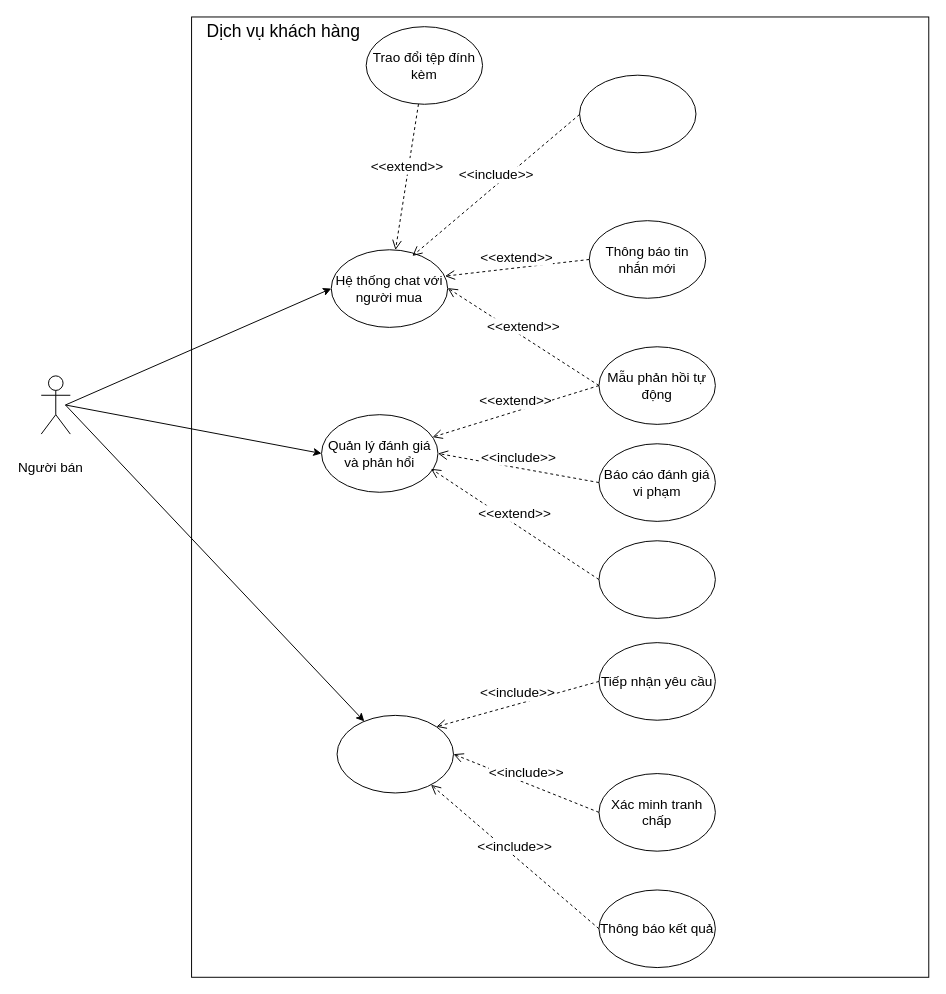
This 946x994 diagram has some shape labels left out. The centre of each missing label's shape, as x and y in pixels:
"Actor" goes at point 55,404.
"Phản hồi đánh giá" goes at point 656,579.
"Trao đổi tin nhắn" goes at point 637,113.
"Xử lý tranh chấp" goes at point 394,753.
